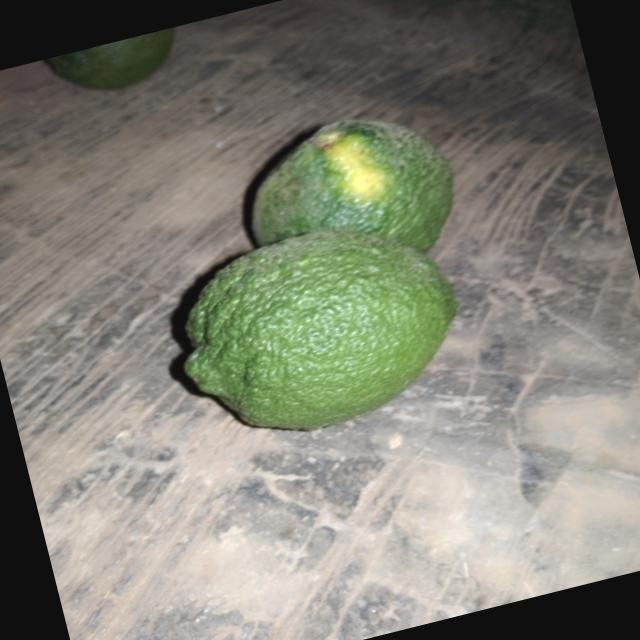Unripe: (139, 188, 506, 477), (214, 73, 503, 309)
